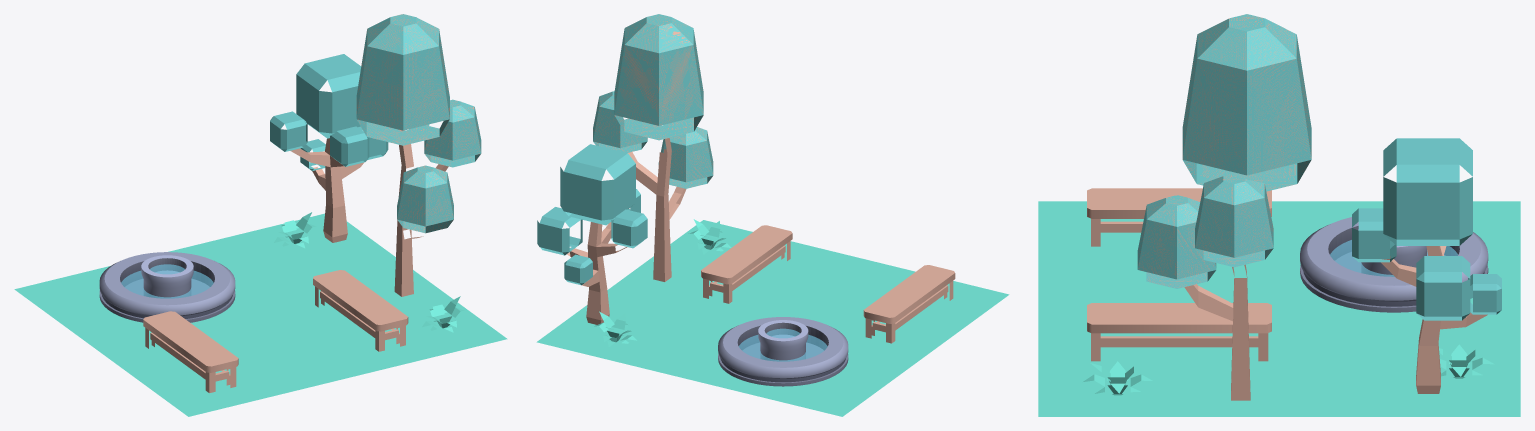
The model's file is parque.glb.
3 renders of one model, left to right at view 1: azimuth 30°, elevation 25°; view 2: azimuth 150°, elevation 25°; view 3: azimuth 270°, elevation 25°, orthographic. The views are drawn at different scales.
Visible parts, largest first — view 1: ground_grass, tree_thin_dark, tree_detailed_dark, fountain-round-detail, stall-bench, stall-bench.001, (%ignore), plant_bushDetailed.001, plant_bushDetailed; view 2: ground_grass, tree_thin_dark, tree_detailed_dark, fountain-round-detail, stall-bench, stall-bench.001, (%ignore), plant_bushDetailed.001, plant_bushDetailed; view 3: ground_grass, tree_thin_dark, tree_detailed_dark, fountain-round-detail, stall-bench.001, stall-bench, plant_bushDetailed, plant_bushDetailed.001, (%ignore).
Boxes of the visible parts, x1,y1,x2,y2 form: ground_grass: (14, 213, 507, 416); tree_thin_dark: (356, 14, 481, 296); tree_detailed_dark: (270, 54, 388, 242); fountain-round-detail: (99, 252, 235, 322); stall-bench: (143, 311, 238, 393); stall-bench.001: (313, 270, 408, 351); (%ignore): (121, 264, 213, 298); plant_bushDetailed.001: (274, 212, 316, 248); plant_bushDetailed: (422, 296, 464, 332); ground_grass: (536, 220, 1009, 416); tree_thin_dark: (593, 14, 713, 281); tree_detailed_dark: (537, 144, 647, 324); fountain-round-detail: (718, 317, 848, 386); stall-bench: (863, 265, 955, 343); stall-bench.001: (701, 225, 792, 303); (%ignore): (739, 328, 827, 361); plant_bushDetailed.001: (594, 311, 636, 346); plant_bushDetailed: (688, 219, 731, 254); ground_grass: (1038, 201, 1520, 416); tree_thin_dark: (1137, 14, 1311, 400); tree_detailed_dark: (1352, 138, 1501, 393); fountain-round-detail: (1300, 217, 1488, 312); stall-bench.001: (1087, 303, 1271, 361); stall-bench: (1087, 188, 1271, 246); plant_bushDetailed: (1083, 361, 1152, 395); plant_bushDetailed.001: (1439, 344, 1494, 378); (%ignore): (1330, 240, 1457, 276).
Size of the model in its own units: 6.18 by 4.47 by 5.13.
Materials: 11 (1 with a texture image).
